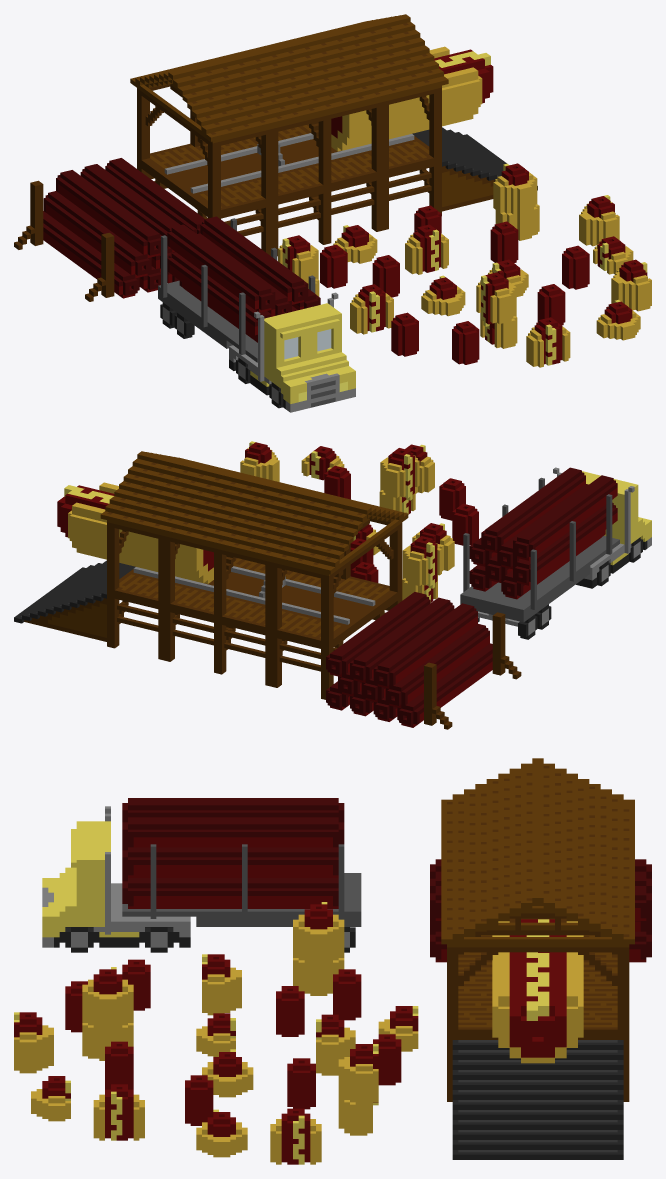
File: hot_dog-1.obj
The picture shows the model from 3 angles, top to bottom: view 1: azimuth 30°, elevation 25°; view 2: azimuth 150°, elevation 25°; view 3: azimuth 270°, elevation 25°; orthographic projection. The views are drawn at different scales.
Parts seen in each view (by area): view 1: hot_dog-1; view 2: hot_dog-1; view 3: hot_dog-1.
Boxes of the visible parts, x1,y1,x2,y2 form: hot_dog-1: [14, 14, 651, 412]; hot_dog-1: [14, 441, 651, 729]; hot_dog-1: [14, 758, 651, 1164].
Bounding box in the file's own units: 112 × 40 × 112.
1 material, 1 textured.
